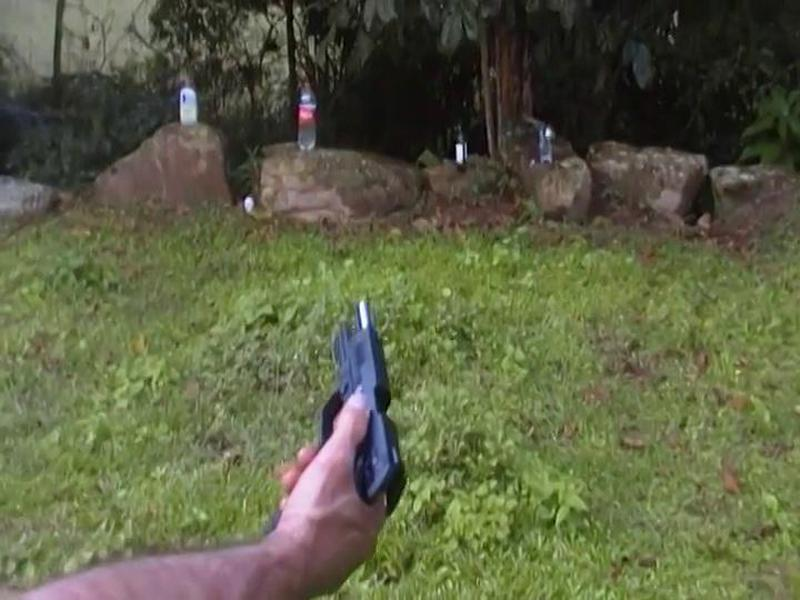Pistola: (296, 284, 422, 534)
